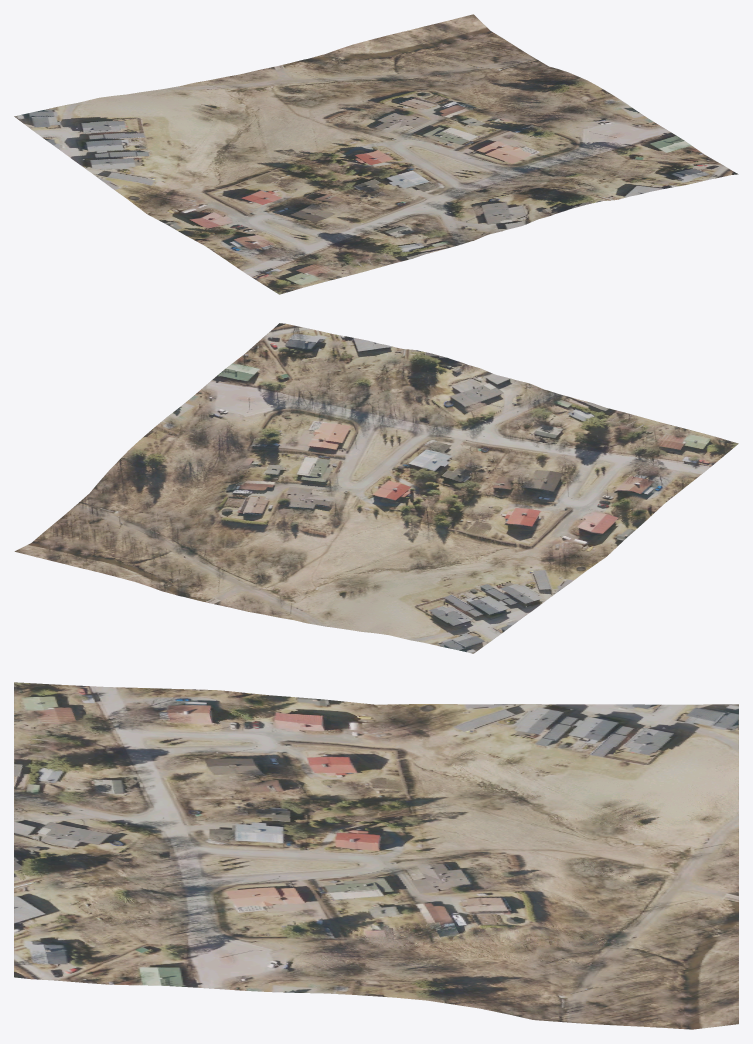
File: CM_Terrain_24490868_6818156.fbx
3 renders of one model, top to bottom at view 1: azimuth 30°, elevation 25°; view 2: azimuth 150°, elevation 25°; view 3: azimuth 270°, elevation 25°, orthographic. The views are drawn at different scales.
Parts seen in each view (by area): view 1: CM_Terrain_24490868_6818156_LOD0; view 2: CM_Terrain_24490868_6818156_LOD0; view 3: CM_Terrain_24490868_6818156_LOD0.
Part boxes in pixels (x1,y1,x2,y2): CM_Terrain_24490868_6818156_LOD0: (14,14,738,294); CM_Terrain_24490868_6818156_LOD0: (14,323,738,653); CM_Terrain_24490868_6818156_LOD0: (14,682,738,1029).
Size of what is drawn, in the model's own units: 205 by 19.38 by 205.
